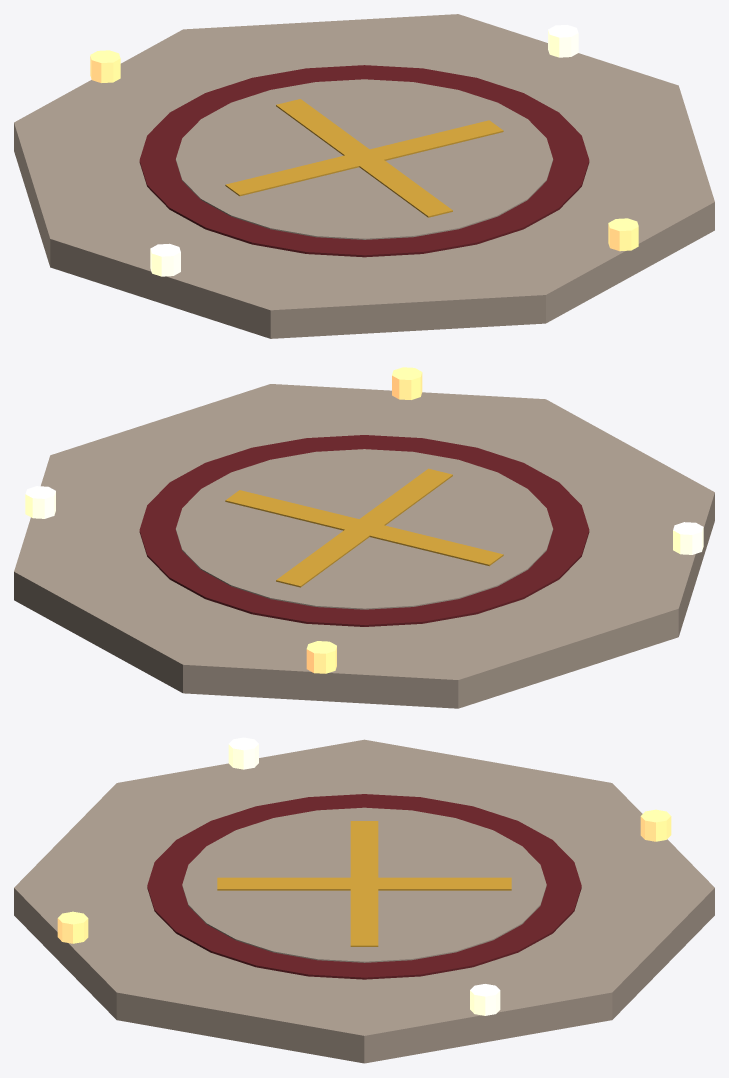
File: plataforma-pouso-n2.glb
3 renders of one model, top to bottom at view 1: azimuth 30°, elevation 25°; view 2: azimuth 150°, elevation 25°; view 3: azimuth 270°, elevation 25°, orthographic. The views are drawn at different scales.
Visible parts, largest first — view 1: Cylinder, Cylinder.002, Cylinder.001, Cube.001, Cube, Cylinder.006, Cylinder.003, Cylinder.004, Cylinder.005; view 2: Cylinder, Cylinder.002, Cylinder.001, Cube.001, Cube, Cylinder.003, Cylinder.004, Cylinder.005, Cylinder.006; view 3: Cylinder, Cylinder.002, Cylinder.001, Cube.001, Cube, Cylinder.006, Cylinder.004, Cylinder.003, Cylinder.005.
Part boxes in pixels (x1,y1,x2,y2): Cylinder: [14, 14, 714, 338]; Cylinder.002: [175, 79, 553, 239]; Cylinder.001: [139, 65, 589, 257]; Cube.001: [276, 99, 452, 217]; Cube: [225, 120, 503, 196]; Cylinder.006: [608, 218, 638, 251]; Cylinder.003: [548, 25, 578, 57]; Cylinder.004: [90, 50, 120, 82]; Cylinder.005: [150, 243, 180, 276]; Cylinder: [14, 384, 714, 708]; Cylinder.002: [175, 449, 553, 609]; Cylinder.001: [139, 435, 589, 626]; Cube.001: [276, 468, 452, 587]; Cube: [225, 490, 503, 566]; Cylinder.003: [25, 486, 55, 518]; Cylinder.004: [306, 641, 336, 673]; Cylinder.005: [673, 522, 703, 554]; Cylinder.006: [392, 367, 422, 399]; Cylinder: [14, 739, 714, 1063]; Cylinder.002: [182, 807, 546, 962]; Cylinder.001: [147, 794, 581, 979]; Cube.001: [217, 877, 511, 890]; Cube: [350, 821, 378, 946]; Cylinder.006: [57, 911, 88, 943]; Cylinder.004: [640, 809, 671, 841]; Cylinder.003: [470, 984, 500, 1015]; Cylinder.005: [228, 737, 258, 769].
Size of the model in its own units: 2.3 by 0.175 by 2.3.
